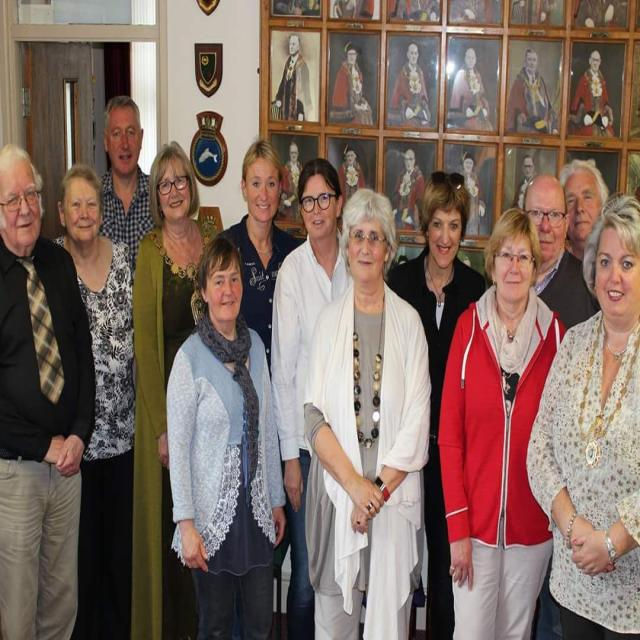body: (267, 0, 636, 263), (298, 184, 434, 639), (434, 207, 568, 640), (163, 231, 292, 639), (382, 167, 489, 640), (0, 137, 100, 640), (130, 139, 220, 640), (47, 162, 137, 639), (269, 155, 351, 640), (207, 136, 309, 386), (520, 170, 601, 332), (95, 94, 163, 276), (564, 187, 609, 265)
